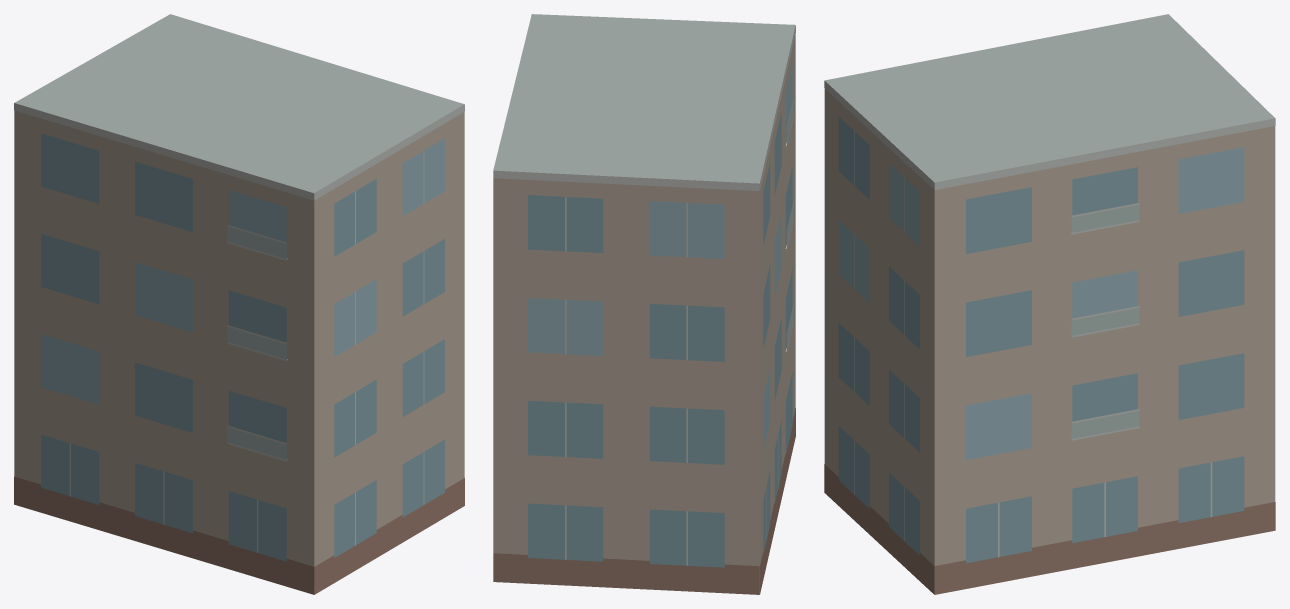
Rendered from survey-upis-32941000.glb.
3 renders of one model, left to right at view 1: azimuth 30°, elevation 25°; view 2: azimuth 150°, elevation 25°; view 3: azimuth 270°, elevation 25°, orthographic. The views are drawn at different scales.
Parts seen in each view (by area): view 1: survey-upis-32941000.tmp; view 2: survey-upis-32941000.tmp; view 3: survey-upis-32941000.tmp.
Boxes of the visible parts, x1,y1,x2,y2 form: survey-upis-32941000.tmp: [14, 14, 464, 594]; survey-upis-32941000.tmp: [493, 14, 795, 594]; survey-upis-32941000.tmp: [824, 14, 1275, 594].
Bounding box in the file's own units: 11.63 × 13.25 × 13.15.
